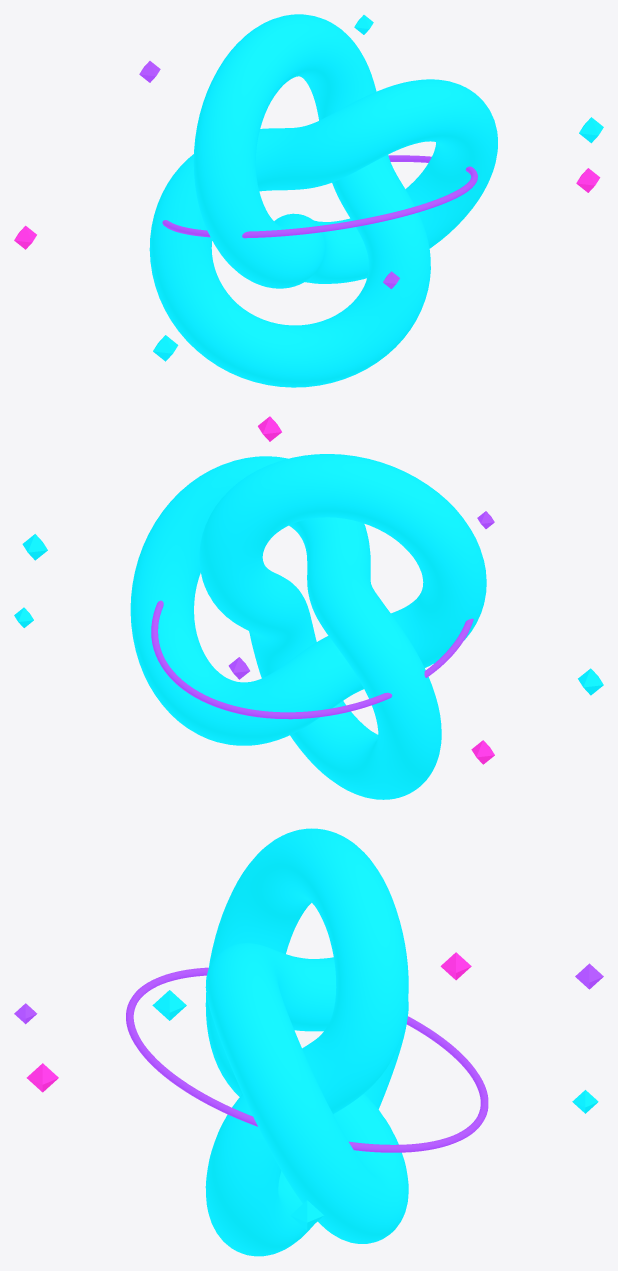
File: hero.glb
3 views of the same model, one above another, from view 1: azimuth 30°, elevation 25°; view 2: azimuth 150°, elevation 25°; view 3: azimuth 270°, elevation 25° (orthographic). The views are drawn at different scales.
Bounding box in the file's own units: 6.26 × 3.89 × 5.2.
